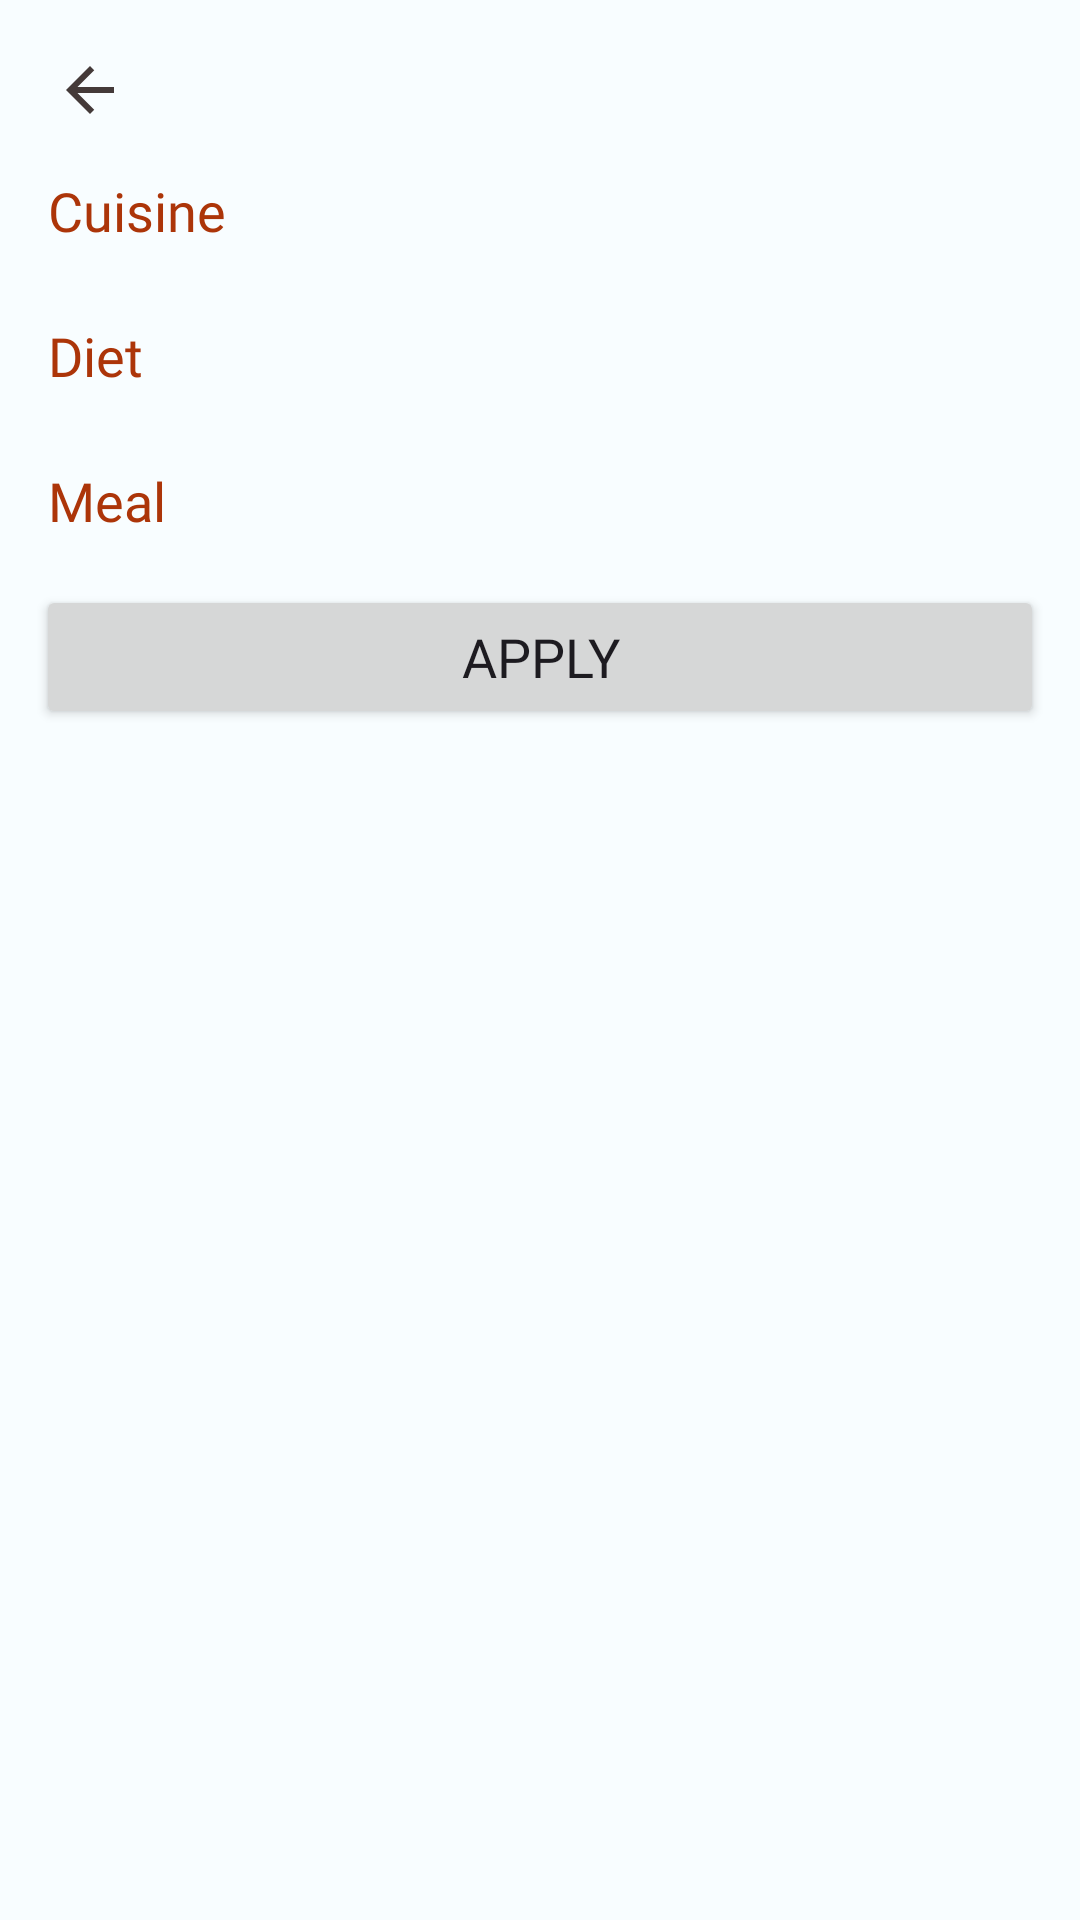

Icons on this 1080*1920 Android screen, each with the point to tap as [x,y]:
Back button: [90,90]
